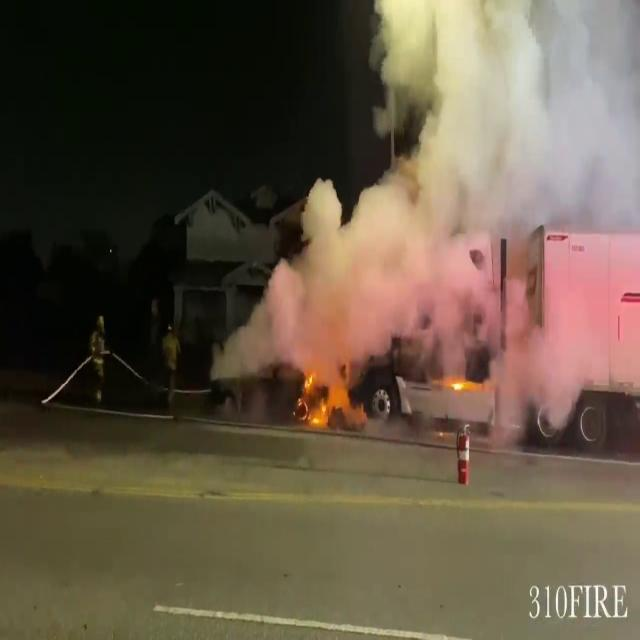Fire: (292, 358, 359, 430)
Smoke: (396, 0, 640, 416), (219, 126, 532, 390)
